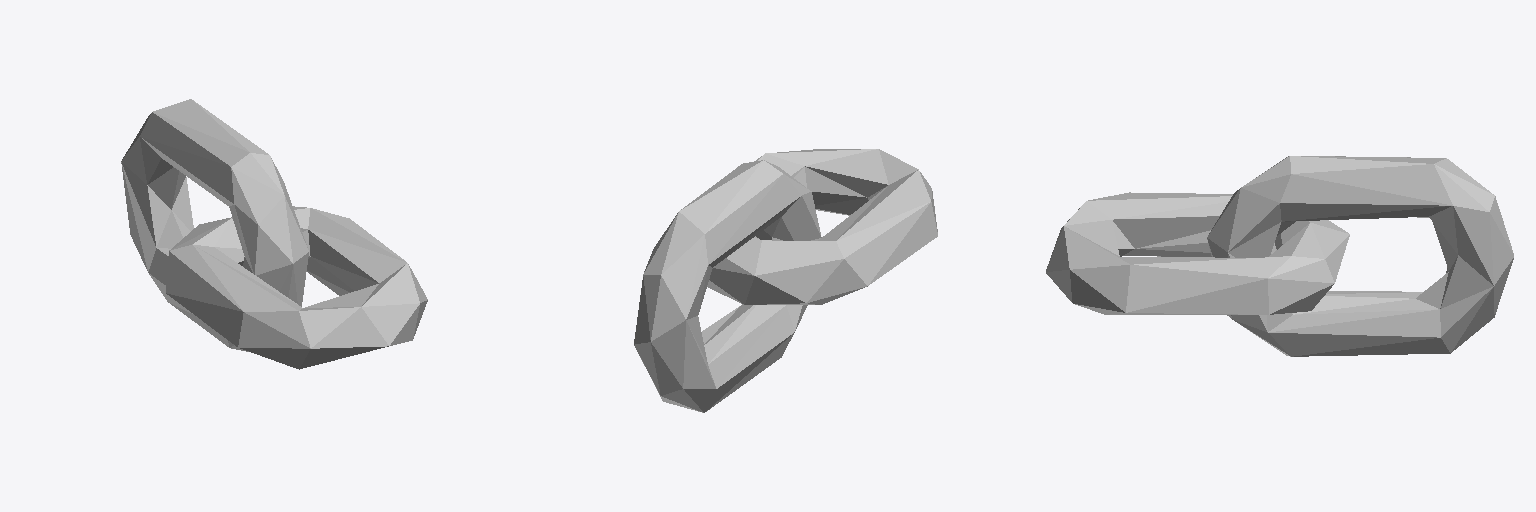
File: chain_simple.obj
3 views of the same model, side by side, from view 1: azimuth 30°, elevation 25°; view 2: azimuth 150°, elevation 25°; view 3: azimuth 270°, elevation 25° (orthographic).
Parts seen in each view (by area): view 1: Torus.002; view 2: Torus.002; view 3: Torus.002.
Boxes of the visible parts, <box> form: Torus.002: <box>121,99,427,369</box>; Torus.002: <box>634,149,937,412</box>; Torus.002: <box>1046,156,1513,356</box>.
Bounding box in the file's own units: 2.7 × 2.71 × 5.77.